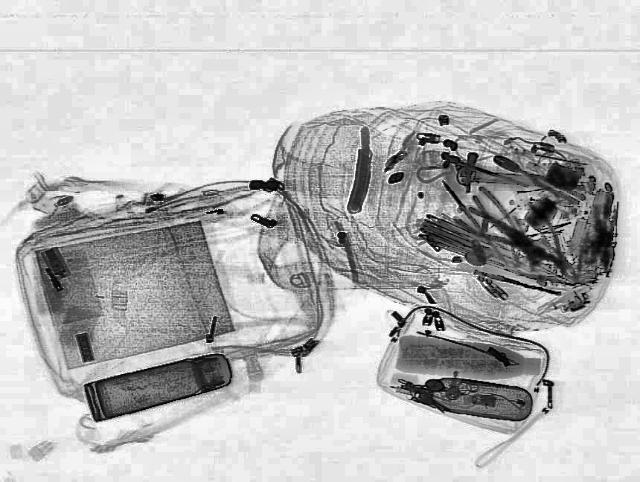Pliers: (487, 150, 593, 208), (512, 214, 594, 288), (450, 204, 536, 254)
